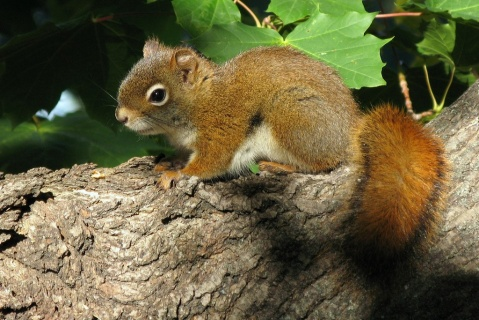Squirrel: (84, 34, 449, 286)
